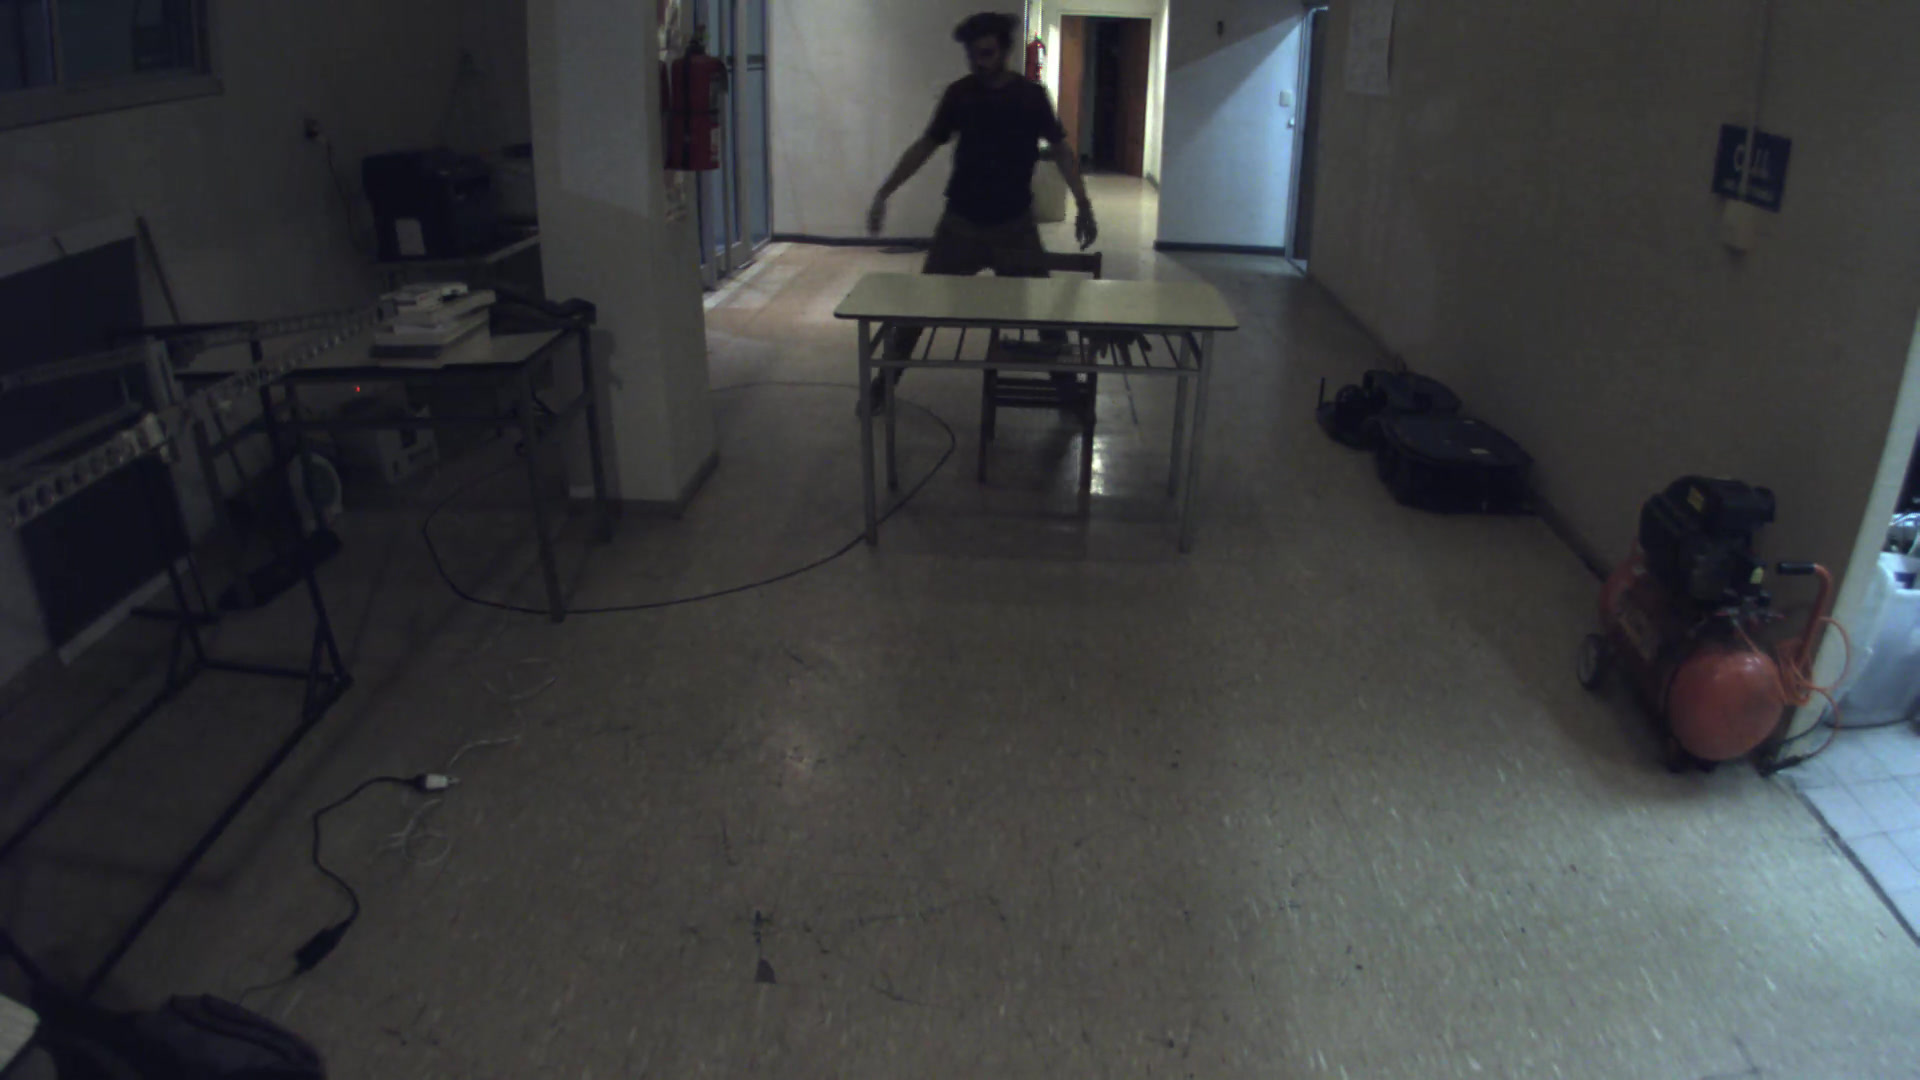hand: (1059, 195, 1116, 251), (856, 196, 909, 243)
